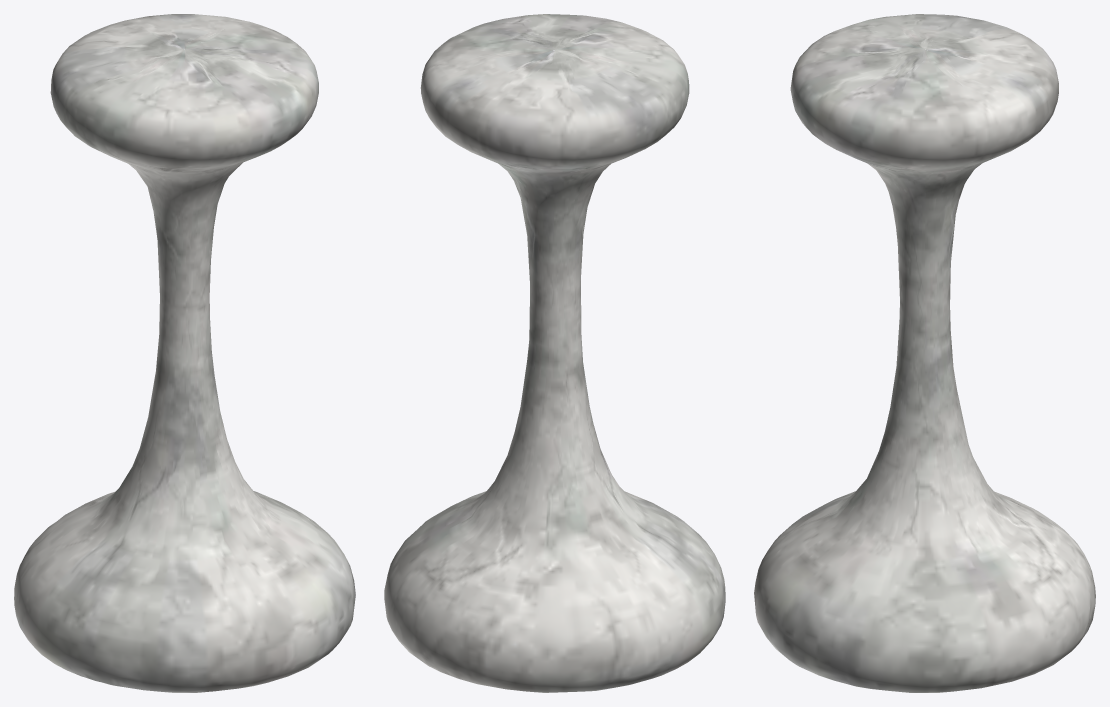
The model's file is Serpentina_rook_white.glb.
3 renders of one model, left to right at view 1: azimuth 30°, elevation 25°; view 2: azimuth 150°, elevation 25°; view 3: azimuth 270°, elevation 25°, orthographic.
Visible parts, largest first — view 1: Serpentina_rook_white; view 2: Serpentina_rook_white; view 3: Serpentina_rook_white.
Boxes of the visible parts, left/top/right/bottom form: Serpentina_rook_white: left=14, top=14, right=355, bottom=692; Serpentina_rook_white: left=384, top=14, right=725, bottom=692; Serpentina_rook_white: left=754, top=14, right=1095, bottom=692.
Bounding box in the file's own units: 0.0383 × 0.0716 × 0.0384.
Materials: 1 (1 with a texture image).
